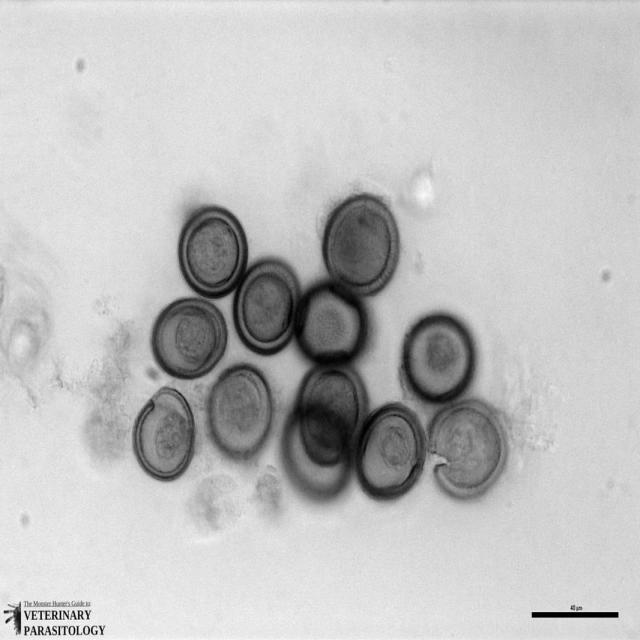Taenia Sp: (320, 179, 398, 305), (297, 356, 373, 472), (398, 308, 482, 402), (235, 248, 304, 358), (291, 277, 372, 369), (176, 202, 252, 299), (206, 359, 277, 461), (358, 399, 427, 501), (150, 296, 229, 381), (130, 381, 194, 484)
